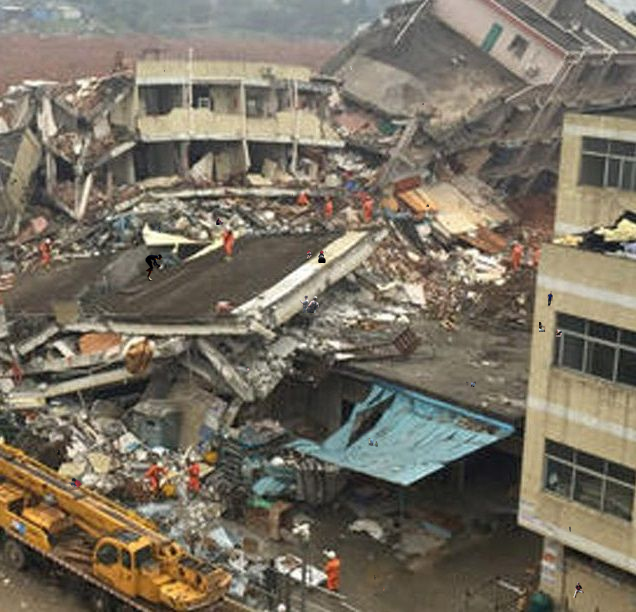Human: (145, 254, 163, 281), (307, 249, 341, 263), (299, 295, 319, 313), (194, 202, 208, 217), (67, 478, 82, 490), (573, 582, 584, 598), (539, 322, 554, 332), (367, 438, 378, 449), (547, 291, 553, 307), (51, 448, 60, 456), (466, 381, 476, 387), (555, 329, 562, 337), (216, 218, 224, 225), (156, 224, 161, 233), (247, 367, 250, 374), (569, 526, 571, 532), (374, 575, 376, 580), (383, 587, 385, 592), (426, 204, 429, 207), (350, 66, 352, 70), (422, 103, 424, 105), (163, 70, 165, 72), (292, 193, 293, 197)
